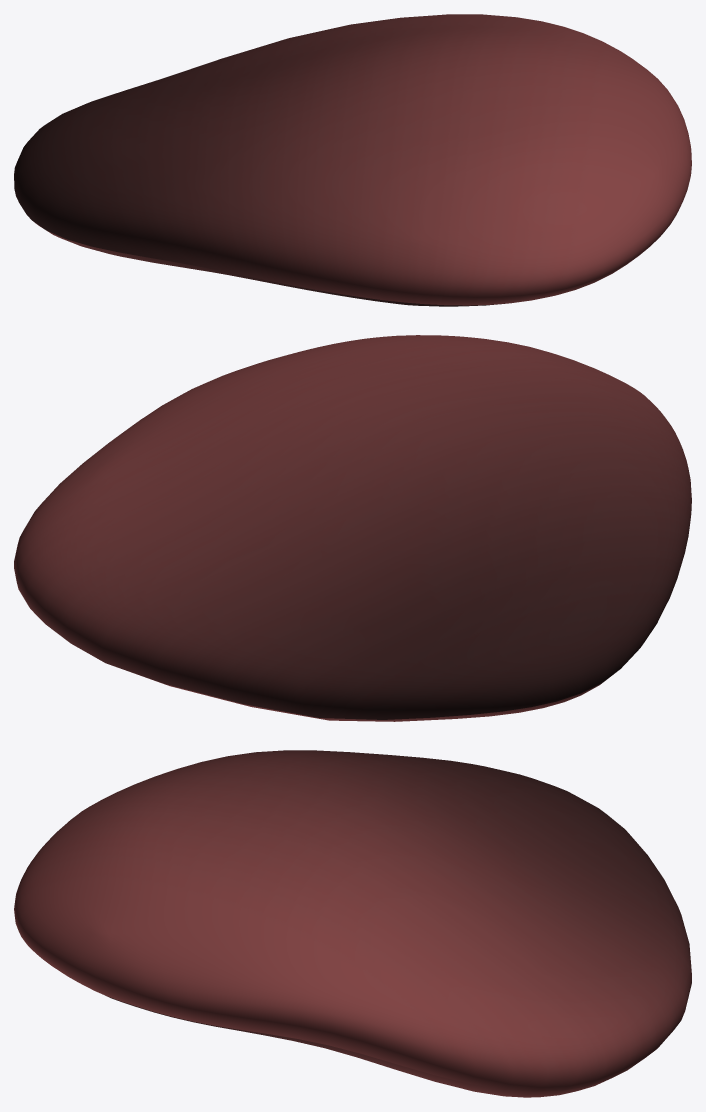
Rendered from common.glb.
3 views of the same model, one above another, from view 1: azimuth 30°, elevation 25°; view 2: azimuth 150°, elevation 25°; view 3: azimuth 270°, elevation 25° (orthographic).
Parts seen in each view (by area): view 1: t_common; view 2: t_common; view 3: t_common.
Boxes of the visible parts, box(x1,y1,x2,y2) form: t_common: box(14, 14, 691, 306); t_common: box(14, 335, 691, 721); t_common: box(14, 750, 691, 1097).
Size of the model in its own units: 0.1229 by 0.0396 by 0.1262.
Materials: 1 (1 with a texture image).
